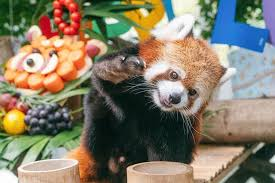redPanda: (75, 15, 237, 160)
